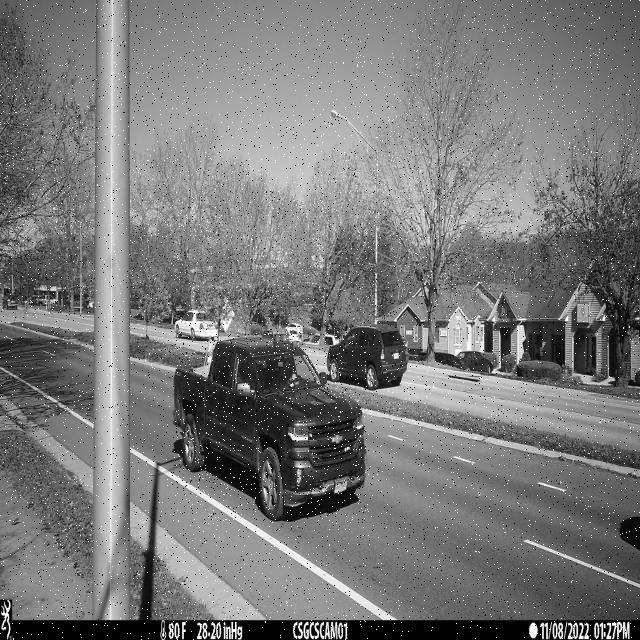Pickup: (172, 332, 366, 523)
